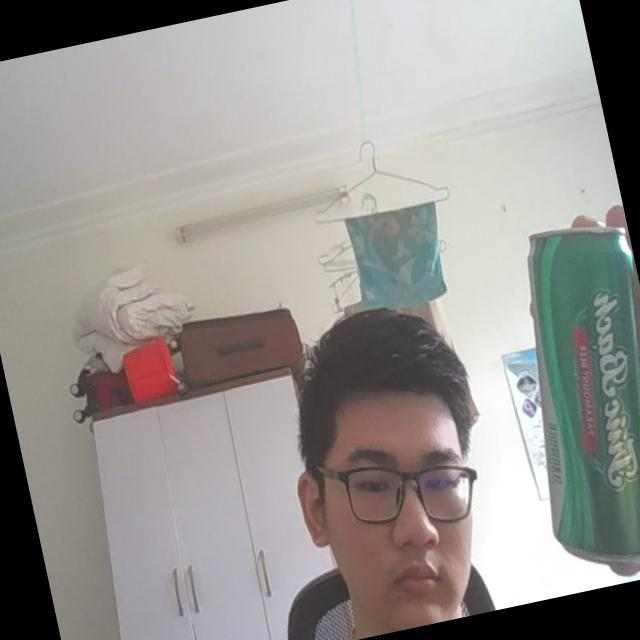Bia-Truc-Bach: (488, 208, 640, 580)
